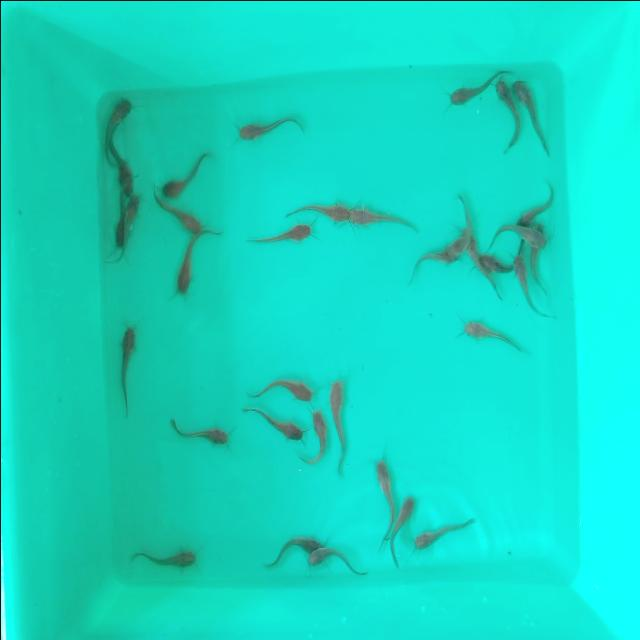lele: (235, 221, 316, 257), (514, 78, 550, 158), (410, 516, 480, 556), (347, 206, 422, 240), (111, 322, 137, 416), (232, 114, 308, 144), (244, 410, 302, 448), (250, 376, 318, 408), (159, 151, 205, 198), (165, 412, 228, 446), (152, 198, 202, 237), (103, 145, 143, 193), (130, 545, 197, 573), (374, 454, 393, 552), (513, 180, 551, 228), (172, 238, 200, 302), (310, 550, 364, 582), (493, 82, 517, 154), (459, 318, 513, 350), (392, 491, 414, 569), (446, 75, 492, 112), (102, 98, 138, 145), (262, 534, 313, 566), (448, 190, 473, 253), (332, 376, 348, 474), (406, 250, 456, 280), (104, 218, 130, 274), (288, 202, 348, 226), (306, 408, 328, 473), (511, 255, 531, 318), (488, 226, 538, 250), (528, 229, 544, 295), (468, 247, 483, 301), (484, 254, 512, 280), (116, 194, 140, 220)
